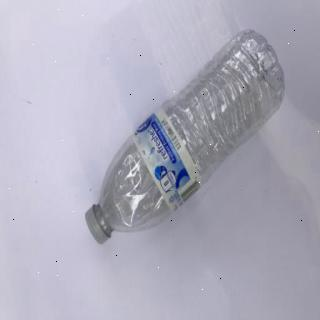Plastic-bottle: (85, 28, 287, 248)
